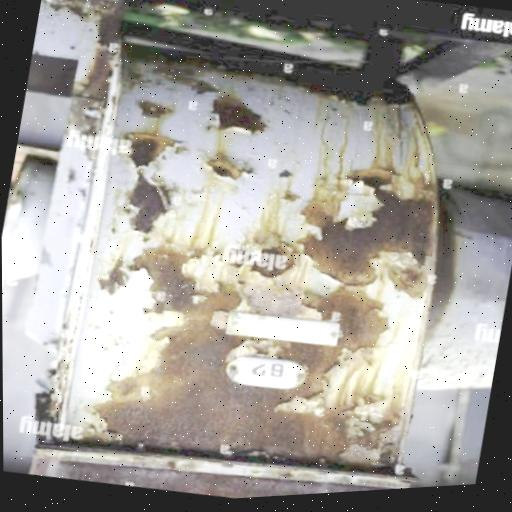corrosion: (62, 147, 442, 501), (411, 186, 477, 350), (185, 64, 284, 147), (107, 116, 177, 176)
